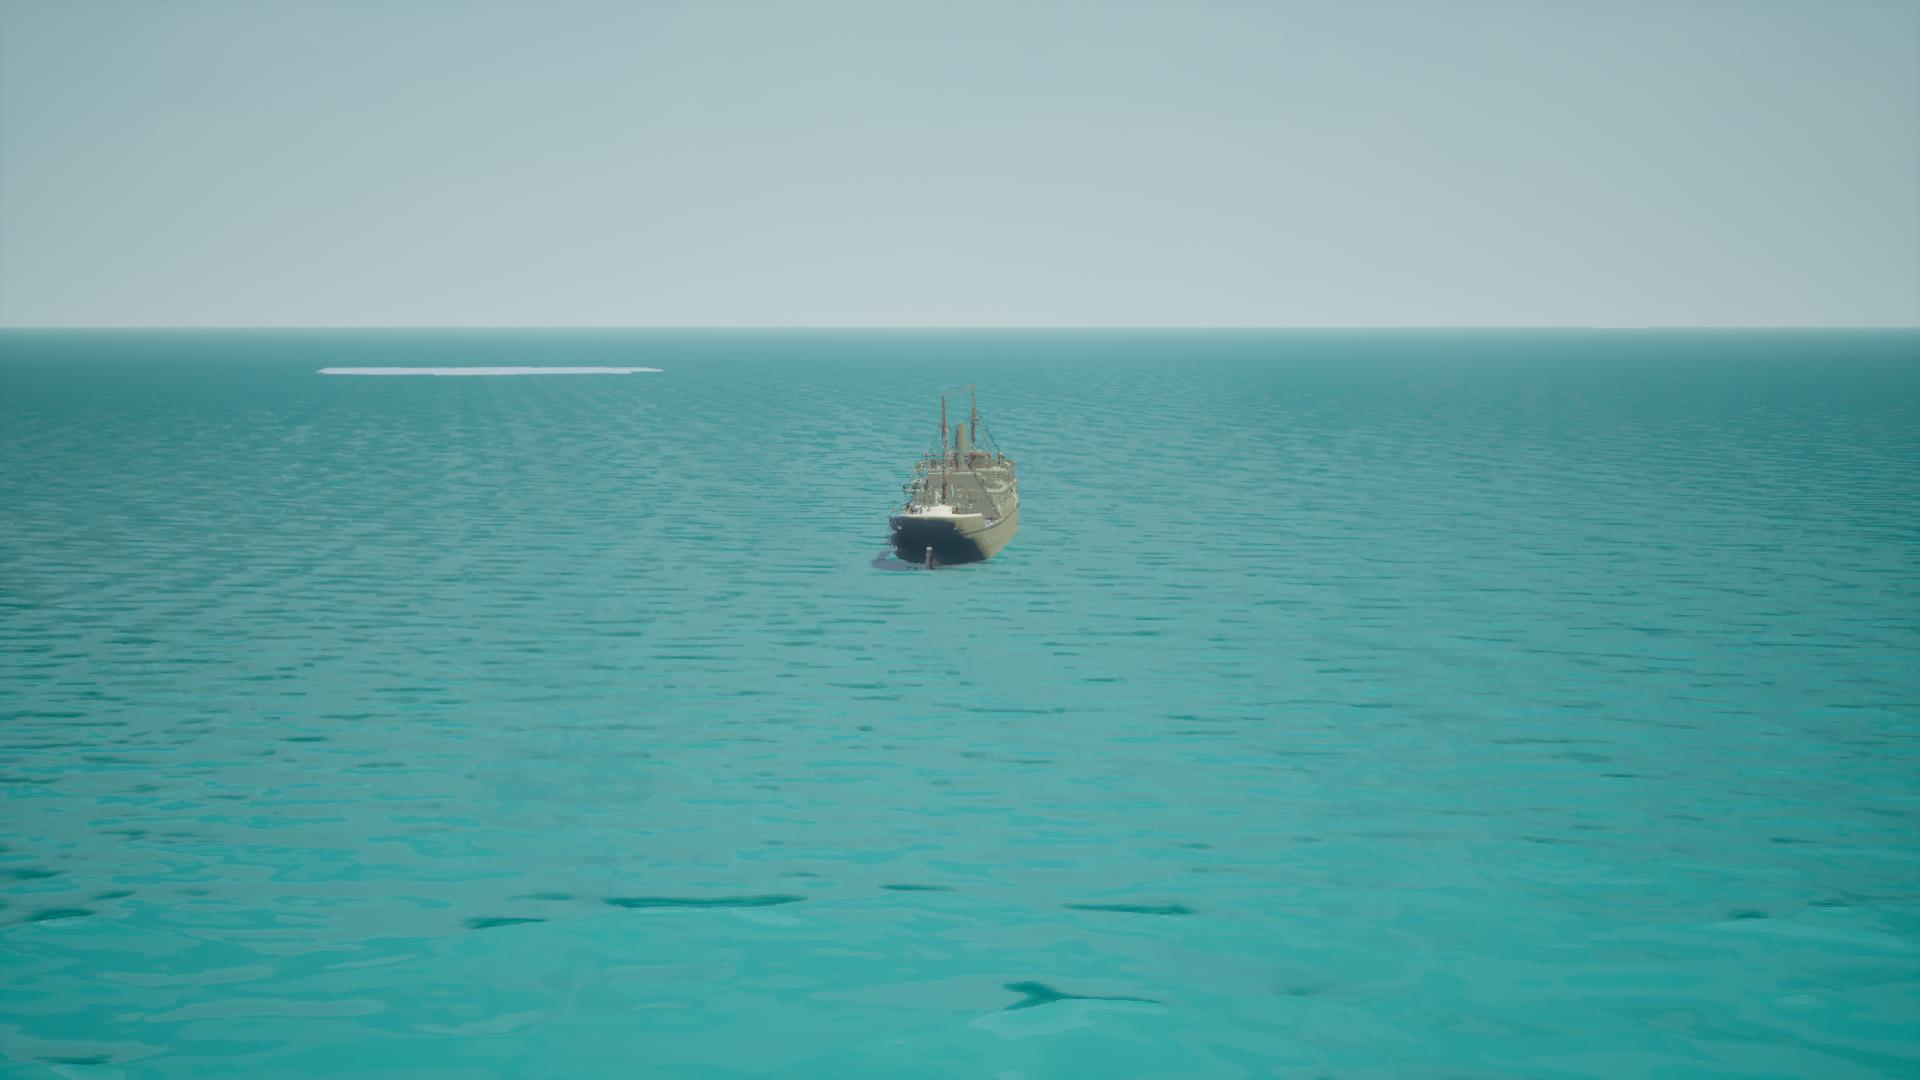Fishing Boat: (880, 385, 1023, 567)
